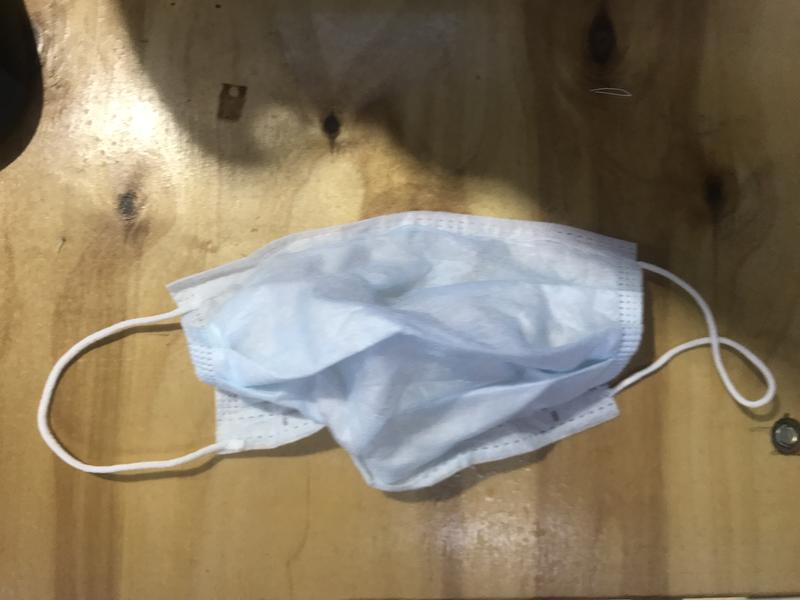medical_mask: (37, 210, 775, 490)
